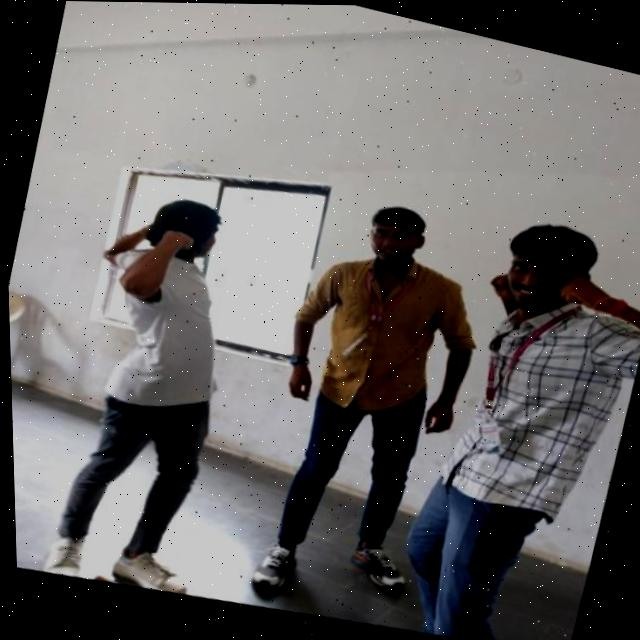id_card: (460, 302, 542, 454), (334, 257, 406, 367)
